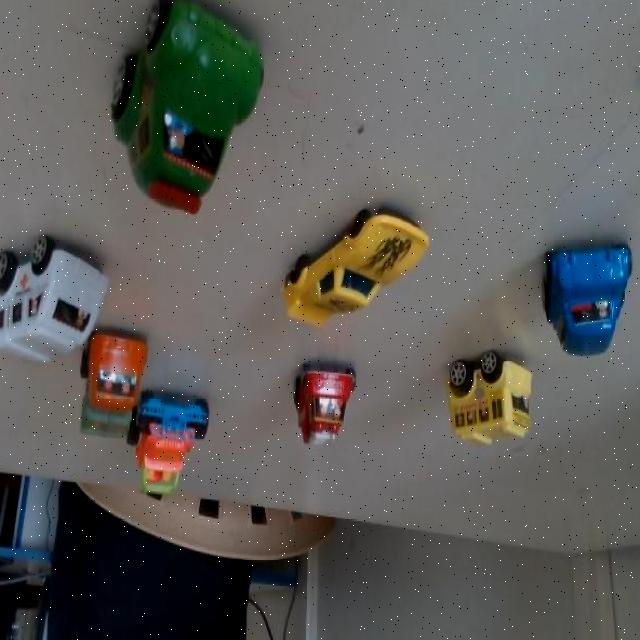car: (92, 0, 269, 212), (278, 196, 430, 337), (0, 222, 110, 378), (542, 233, 638, 358), (436, 341, 528, 446), (133, 394, 219, 502), (76, 325, 146, 449), (282, 349, 357, 456)
